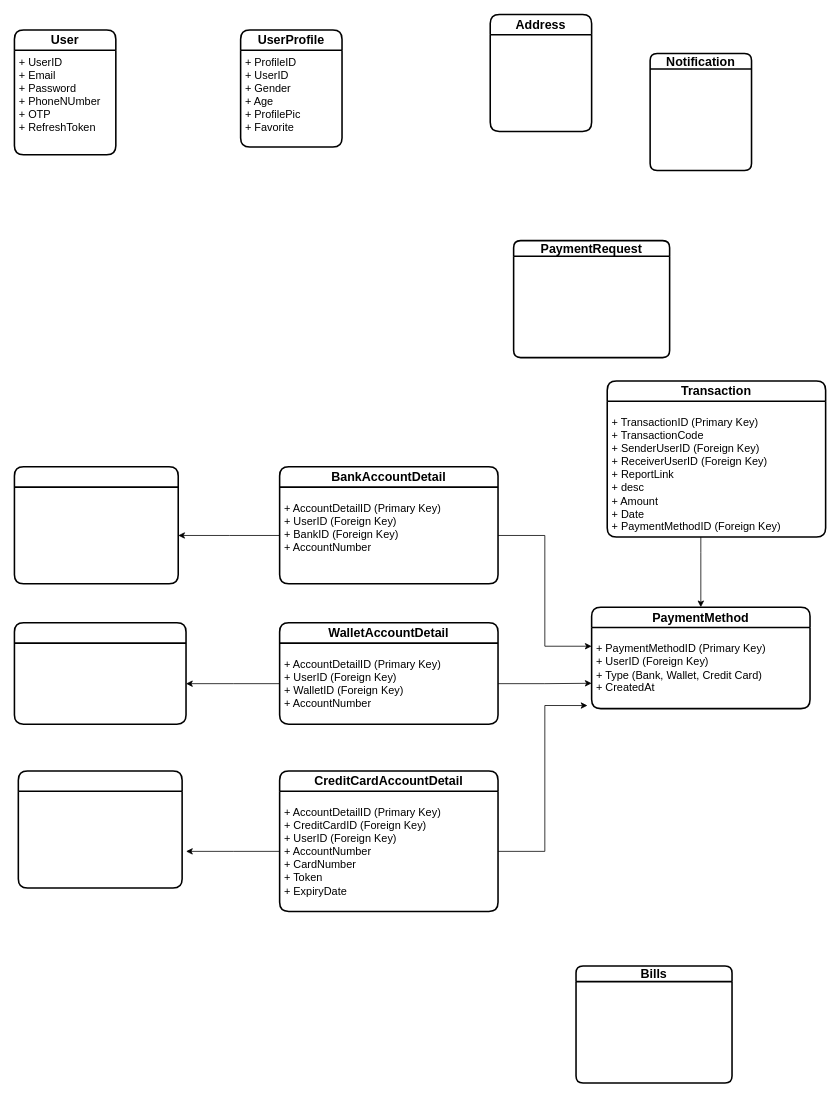
Some shapes in this 839 by 1097 pixel diagram are drawn without their labels. Each missing label, with the centre of its shape:
"Bank" belongs at point (96, 525).
"CreditCard" belongs at point (100, 829).
"Wallet" belongs at point (99, 673).
